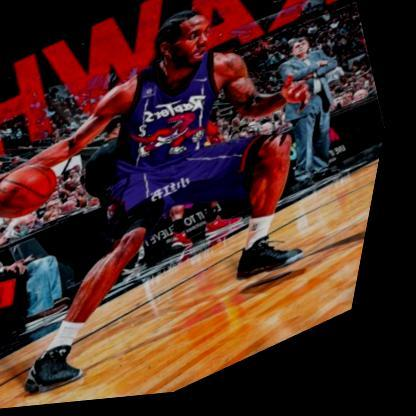basketball: (0, 154, 75, 231)
